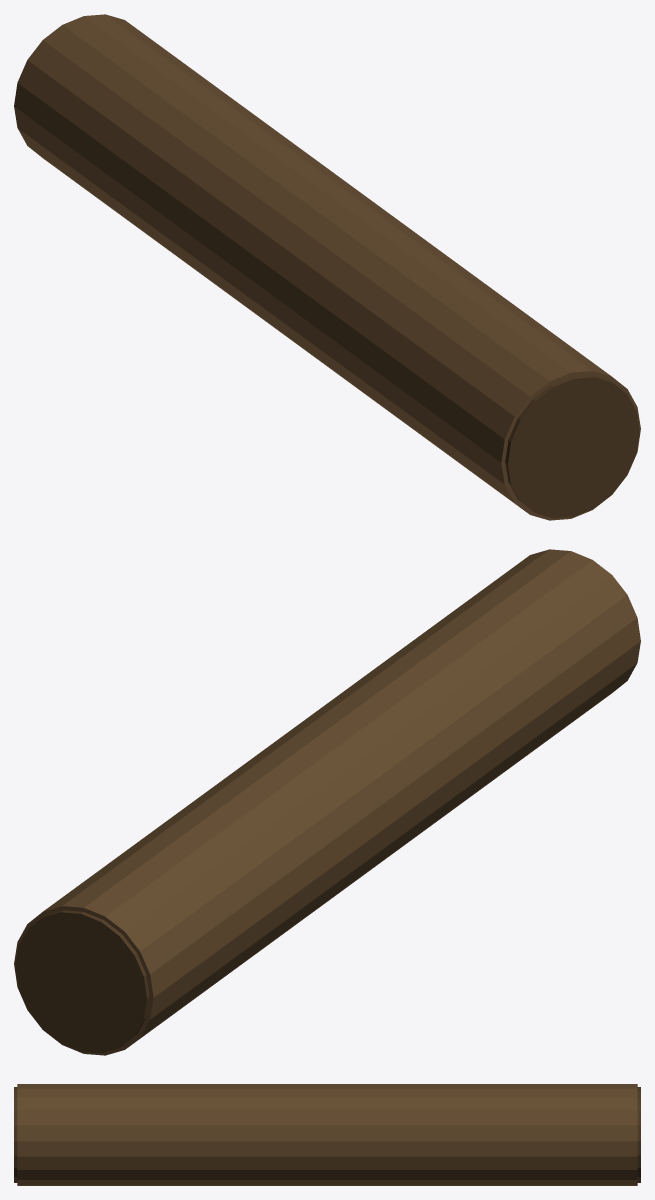
File: fallen_log_01.glb
The picture shows the model from 3 angles, top to bottom: view 1: azimuth 30°, elevation 25°; view 2: azimuth 150°, elevation 25°; view 3: azimuth 270°, elevation 25°; orthographic projection. The views are drawn at different scales.
Visible parts, largest first — view 1: Cylinder; view 2: Cylinder; view 3: Cylinder.
Boxes of the visible parts, x1,y1,x2,y2 form: Cylinder: (14, 14, 640, 520); Cylinder: (14, 549, 640, 1055); Cylinder: (14, 1084, 640, 1185).
Size of the model in its own units: 0.18 by 0.18 by 1.1.
